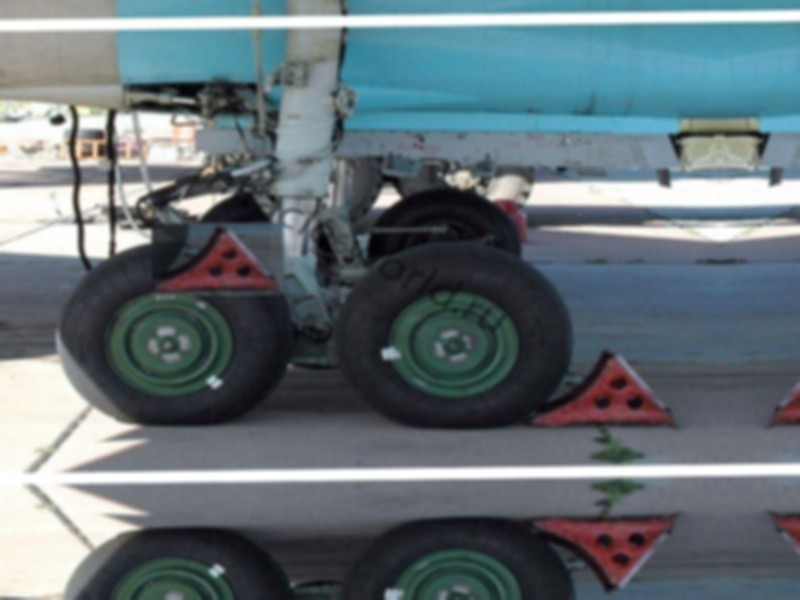chock: (528, 347, 683, 431), (530, 513, 685, 597), (151, 222, 284, 296)
wheel: (53, 237, 296, 429), (337, 238, 577, 432), (341, 515, 580, 600), (56, 526, 300, 600), (367, 187, 523, 261), (189, 191, 278, 251)
